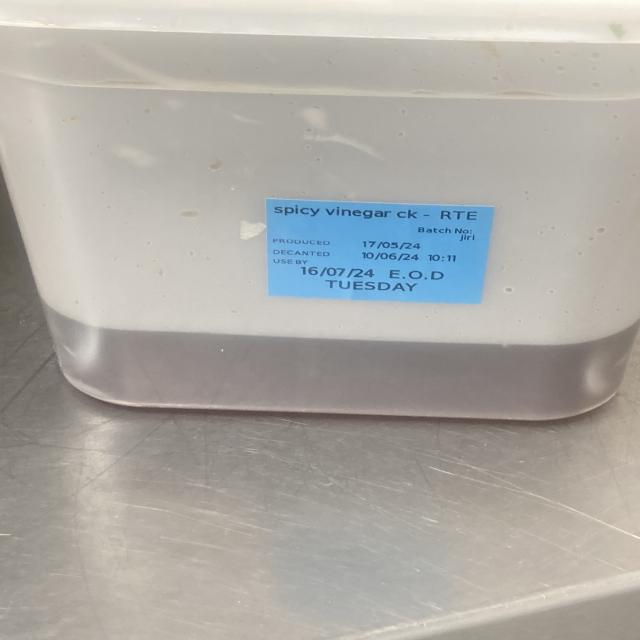product-labels: (264, 197, 496, 307)
